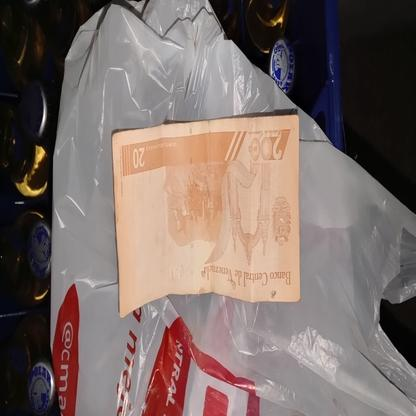vef_back: (111, 114, 301, 318)
